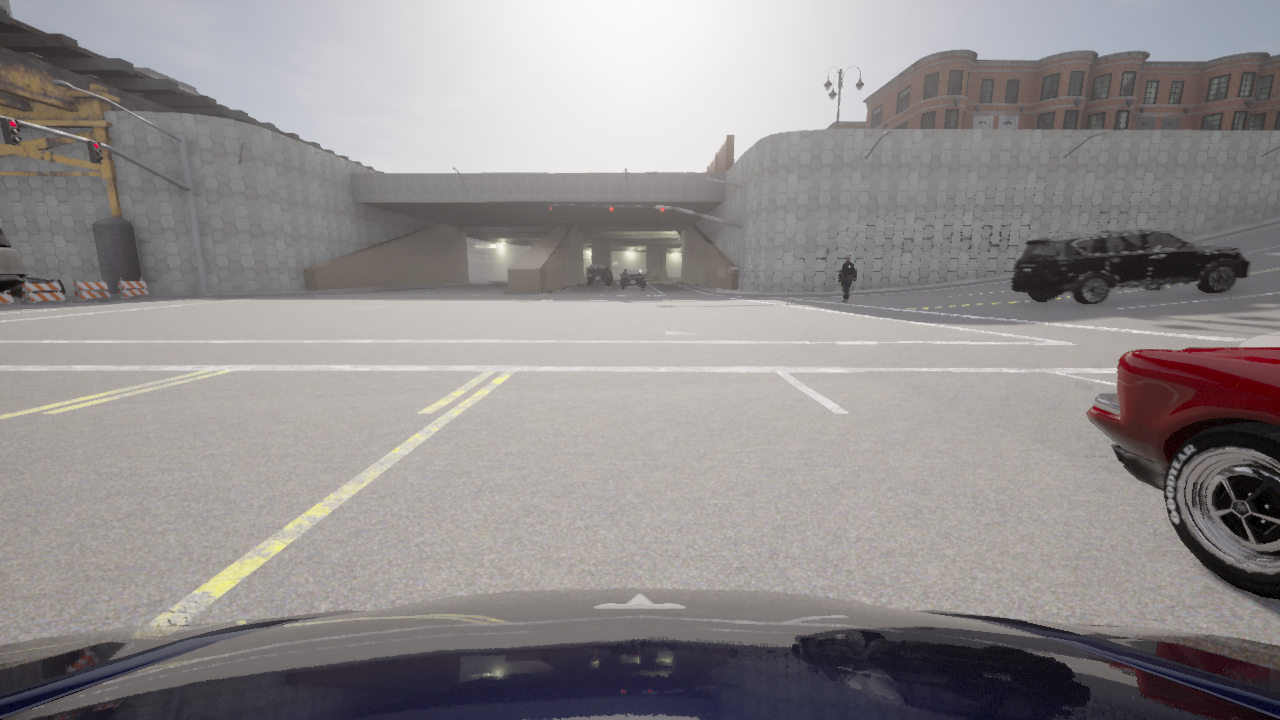cyclist: (0, 588, 1279, 719), (1086, 347, 1279, 599), (1012, 229, 1250, 305), (7, 277, 65, 298), (586, 265, 611, 284), (619, 269, 644, 288)
pedestrian: (838, 254, 855, 302)
